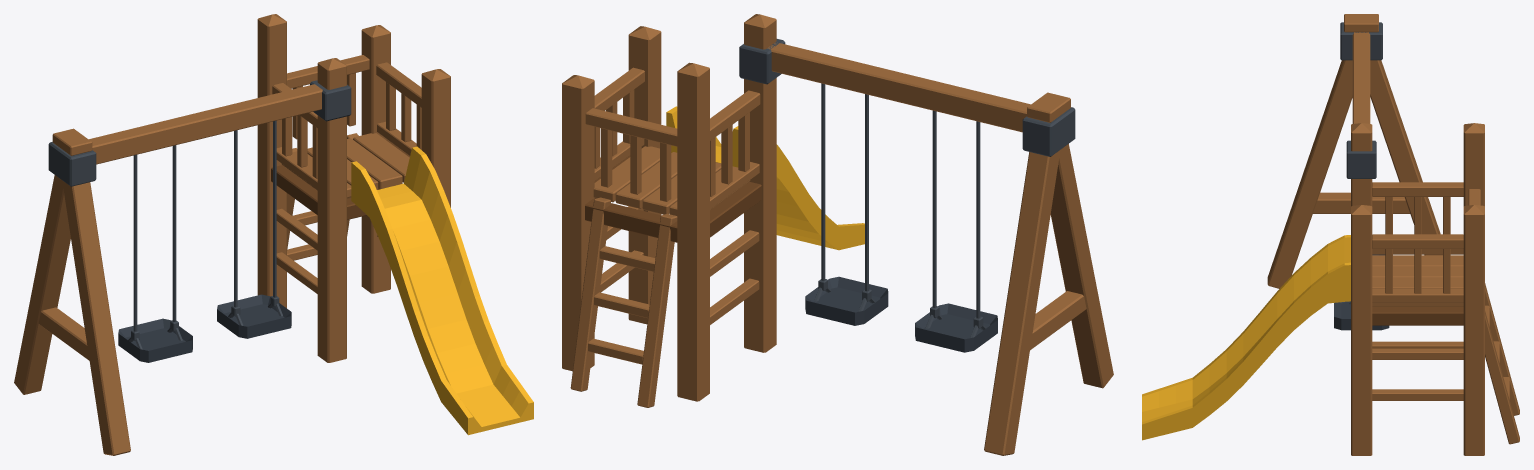
File: park playground.fbx
3 views of the same model, side by side, from view 1: azimuth 30°, elevation 25°; view 2: azimuth 150°, elevation 25°; view 3: azimuth 270°, elevation 25° (orthographic). The views are drawn at different scales.
Parts seen in each view (by area): view 1: Playground_LowPoly; view 2: Playground_LowPoly; view 3: Playground_LowPoly.
Part boxes in pixels (box(x1,y1,x2,y2)): Playground_LowPoly: box(14, 14, 533, 455); Playground_LowPoly: box(562, 14, 1113, 455); Playground_LowPoly: box(1142, 14, 1519, 455).
Bounding box in the file's own units: 335 × 249 × 301.
